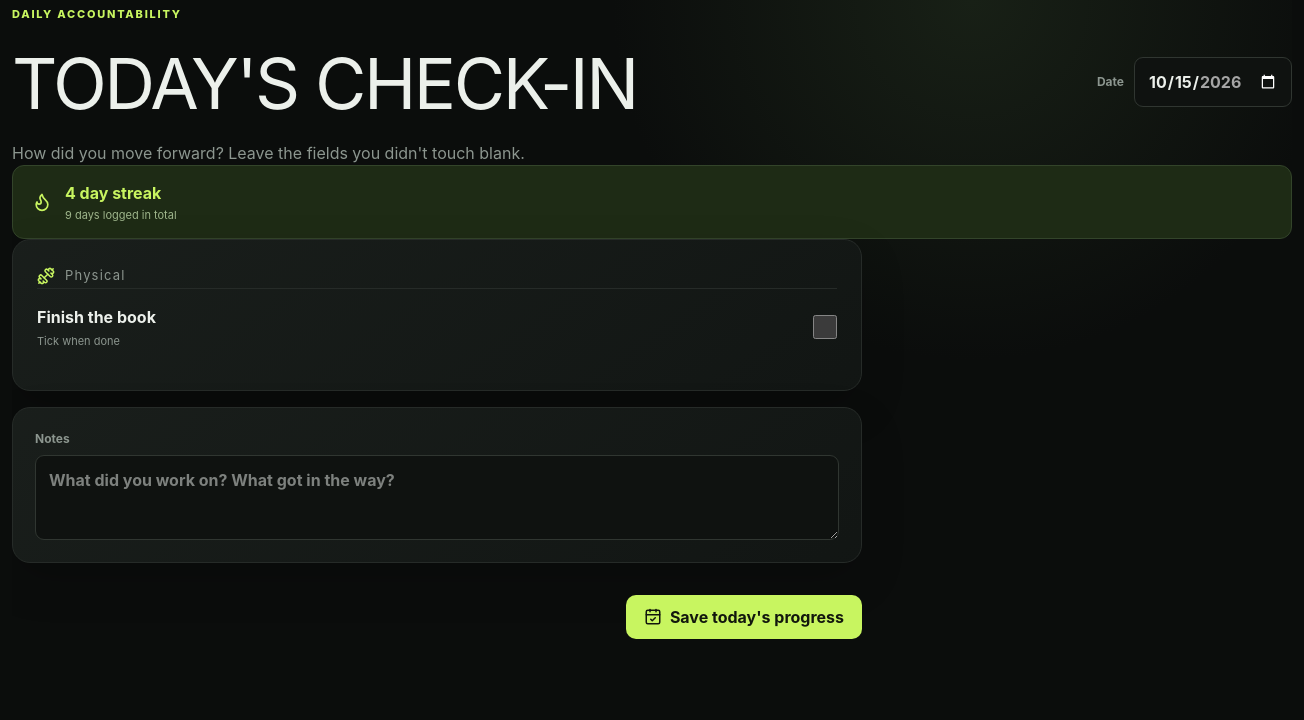
Test: check-in form › does not save a tick that was checked and cleared before the first save
The image size is (1304, 720).
Click the checkbox named "Finish the book" at [825, 327], box [813,315,837,339]
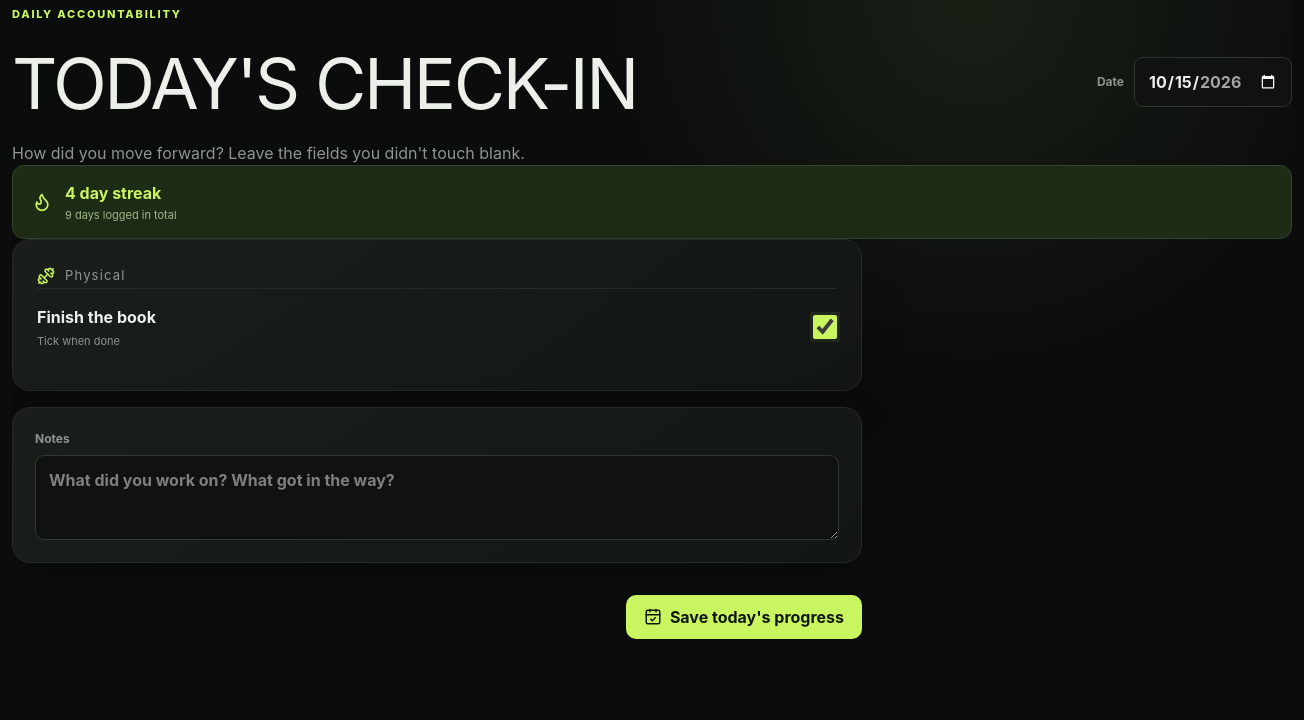
Click the checkbox named "Finish the book" at [825, 327], box [813,315,837,339]
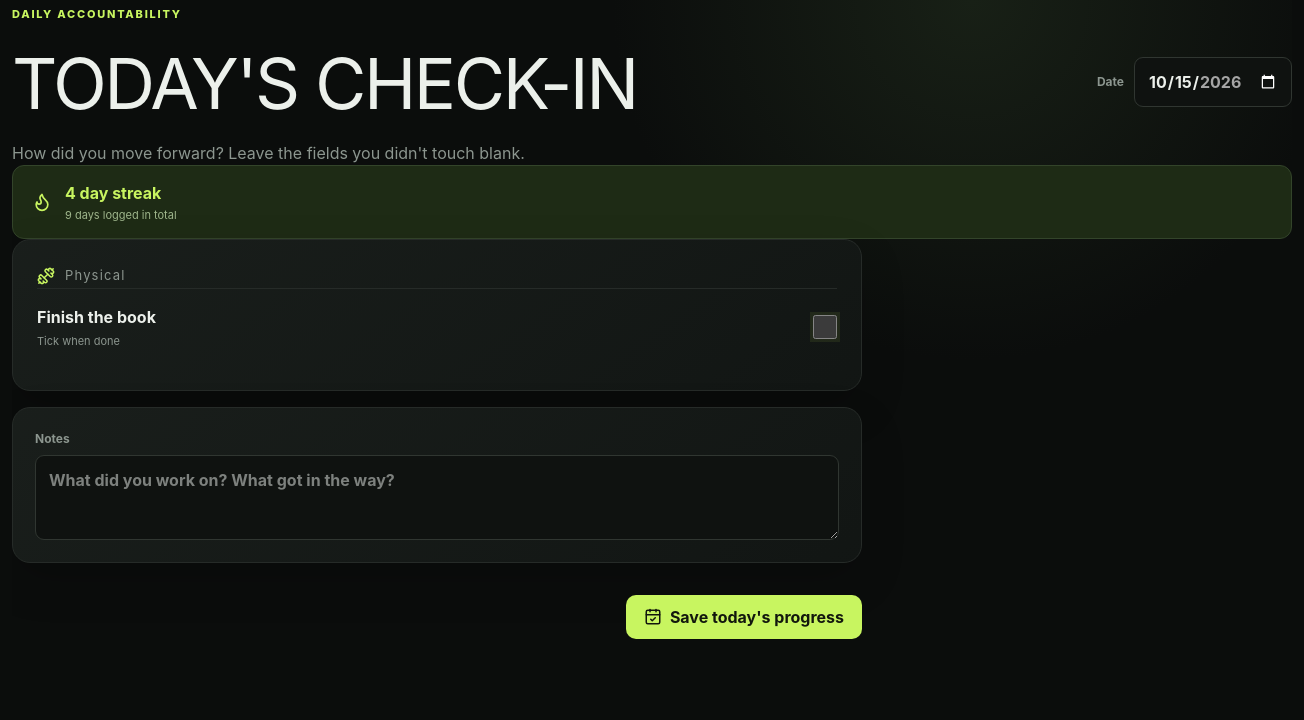
Click the button "Save today's progress" at [744, 617], box [626,595,862,639]
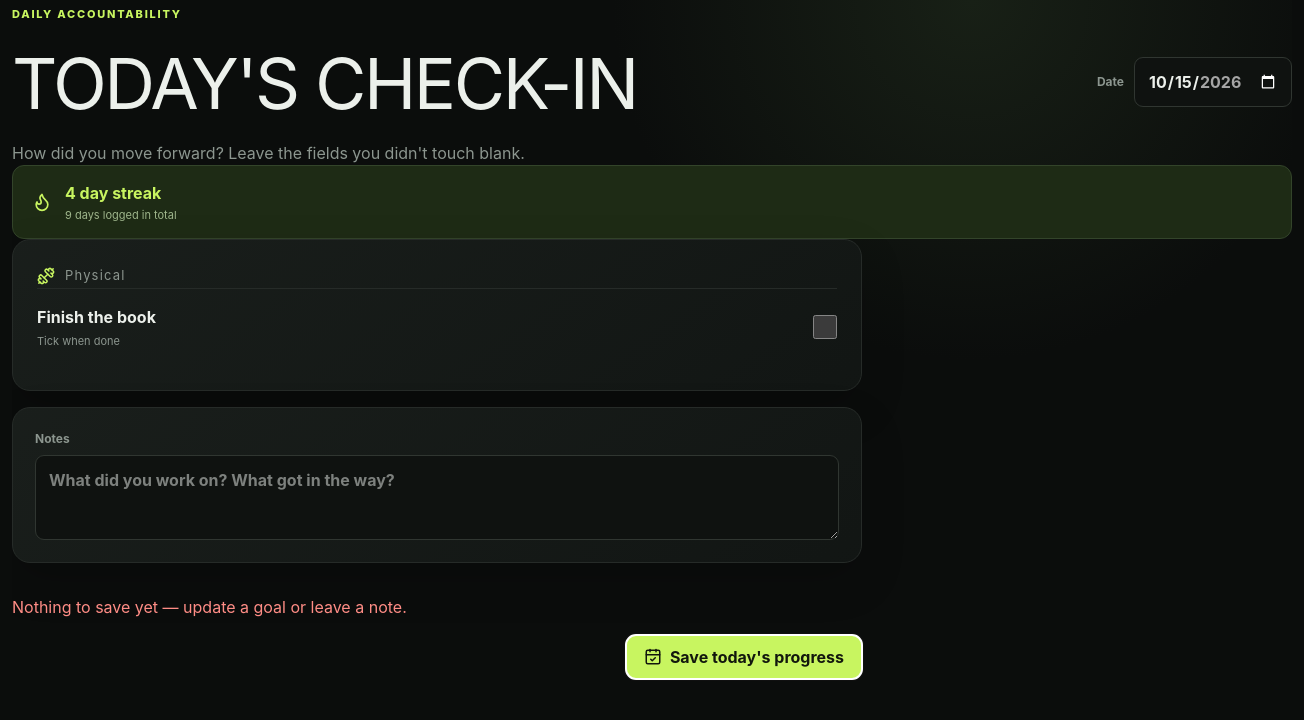
expect the text "Nothing to save yet — update a goal or leave a note." is shown: met, box [12,597,407,617]
